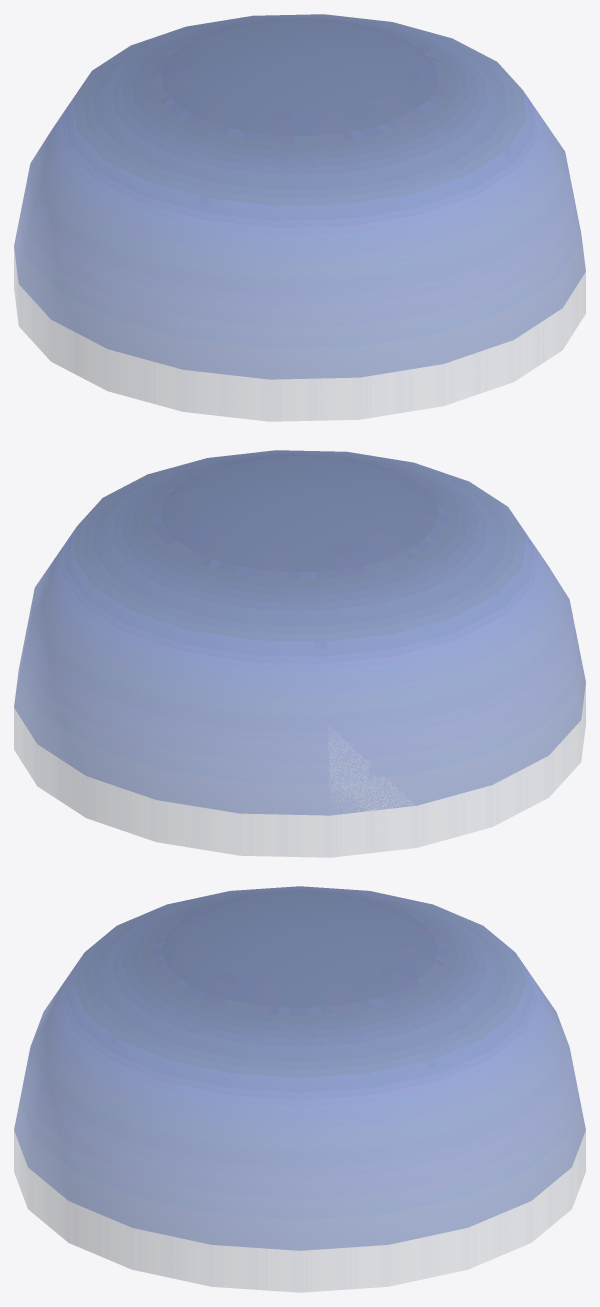
Rendered from stage-snow-sky.glb.
3 renders of one model, top to bottom at view 1: azimuth 30°, elevation 25°; view 2: azimuth 150°, elevation 25°; view 3: azimuth 270°, elevation 25°, orthographic.
Visible parts, largest first — view 1: sky; view 2: sky; view 3: sky.
Boxes of the visible parts, left/top/right/bottom form: sky: left=14, top=14, right=585, bottom=421; sky: left=14, top=450, right=585, bottom=857; sky: left=14, top=886, right=585, bottom=1292.
Bounding box in the file's own units: 2963 × 1387 × 2963.
3 materials, 3 textured.
